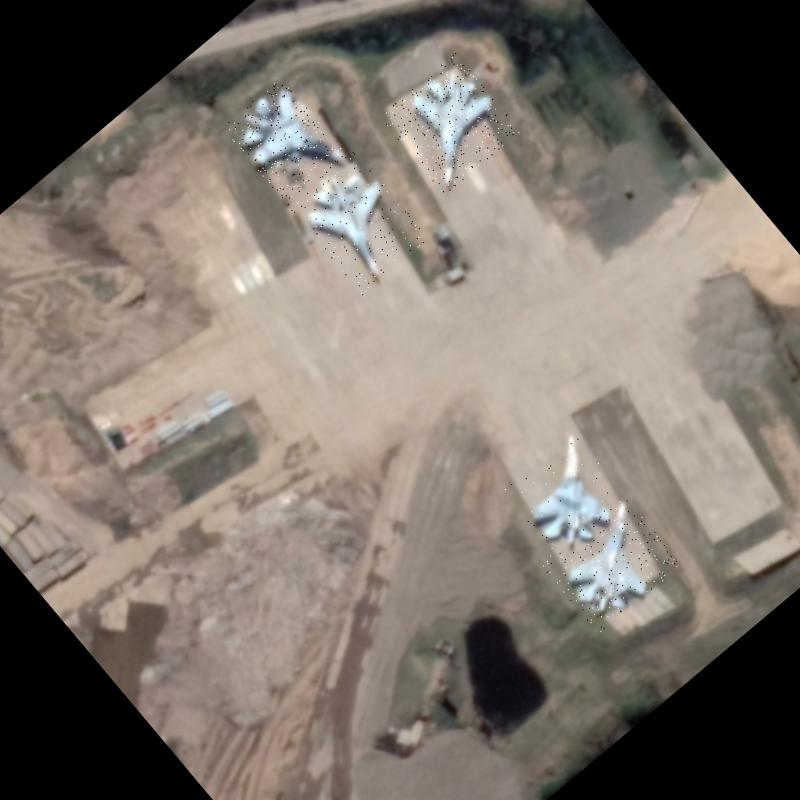A1: (287, 148, 430, 294), (379, 53, 521, 194), (540, 493, 682, 634), (497, 429, 634, 566), (221, 76, 348, 206)
